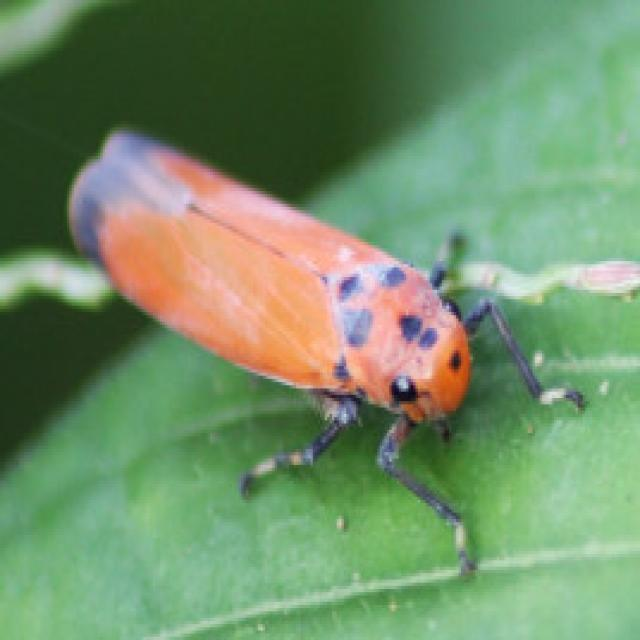Yechan: (59, 115, 594, 580)
